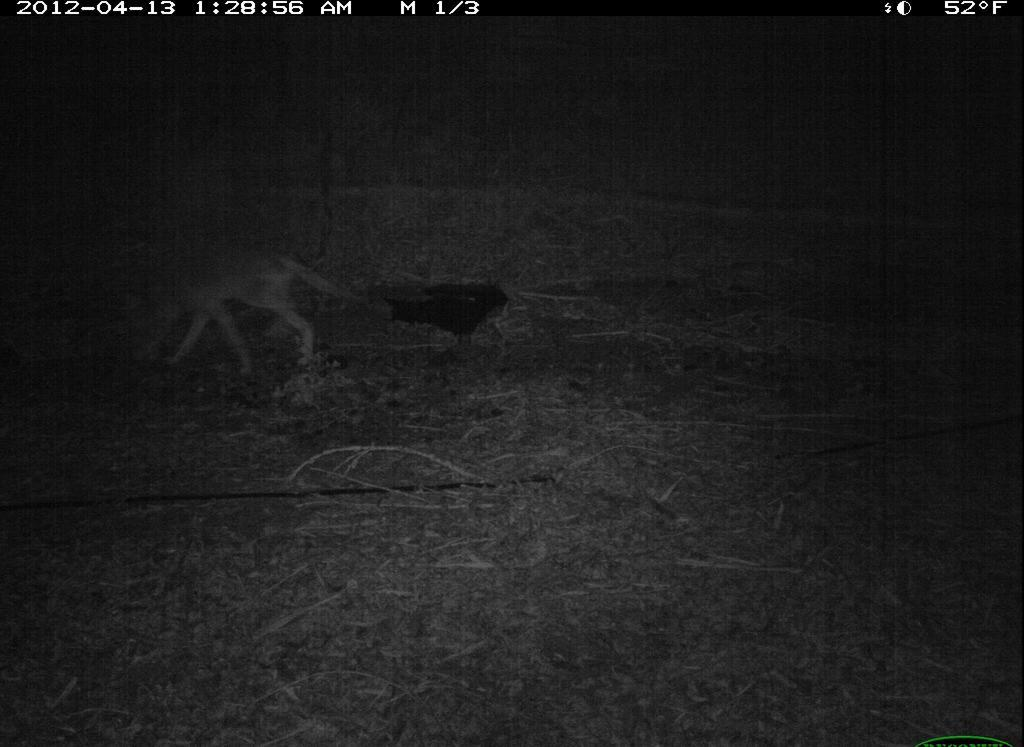coyote: (97, 245, 353, 378)
